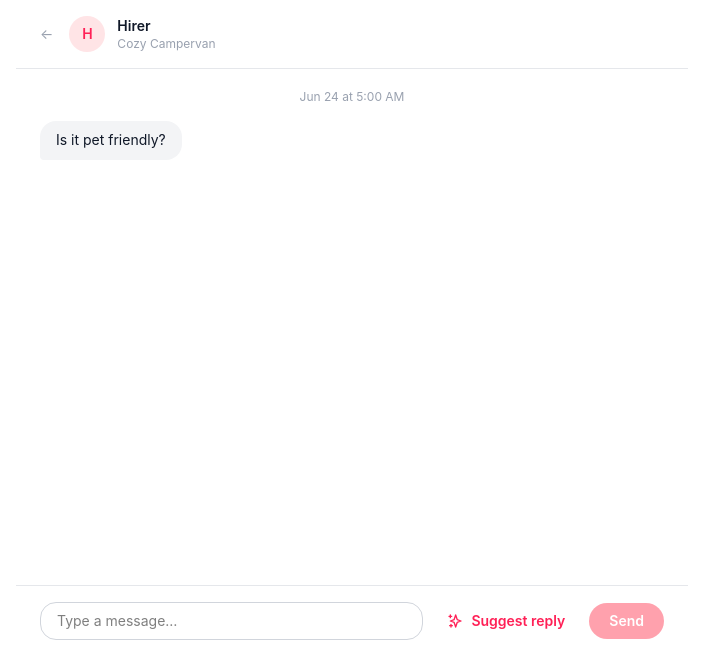
ChatPage — Suggest reply (owner) › shows an inline error and preserves the draft when the suggest request fails
This screenshot has width=705, height=657.
Click the button "Suggest reply" at (506, 621), box [435, 603, 577, 639]
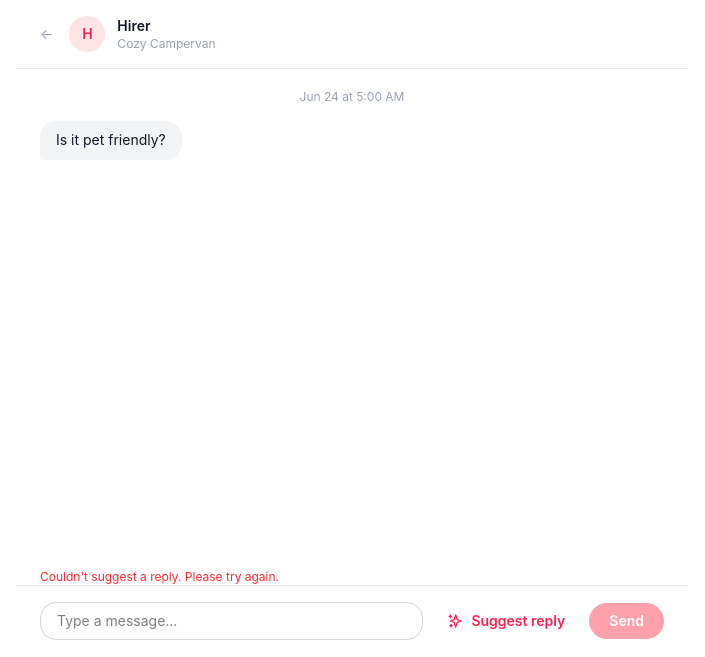
Expected: the text box with placeholder "Type a message…" is empty, [40, 602, 423, 640]
Result: the text "Couldn't suggest a reply. Please try again." is shown at [40, 569, 279, 584]
